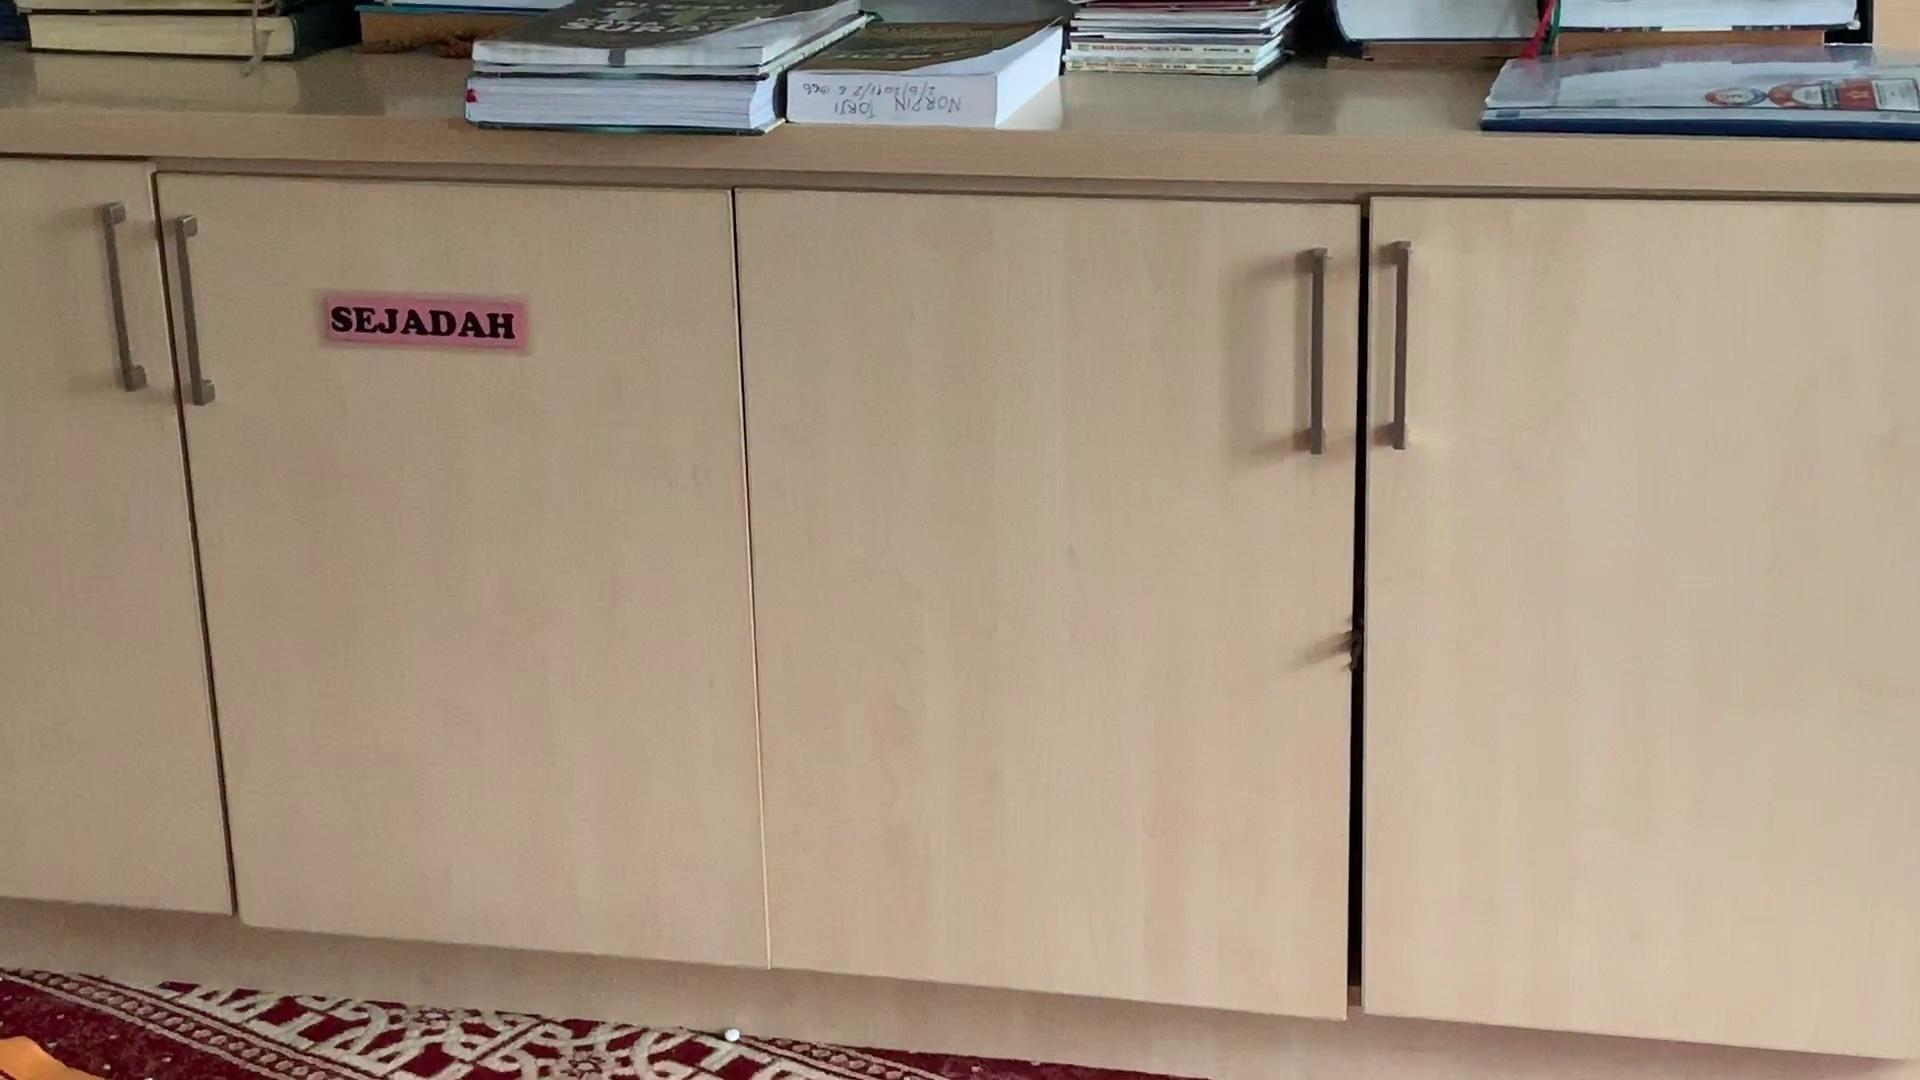cabinet_door: (754, 208, 1352, 1004), (1369, 204, 1920, 1047), (206, 182, 748, 936), (0, 165, 194, 899)
handle: (92, 191, 157, 400), (169, 203, 223, 415), (1377, 233, 1423, 463), (1294, 237, 1332, 465)
